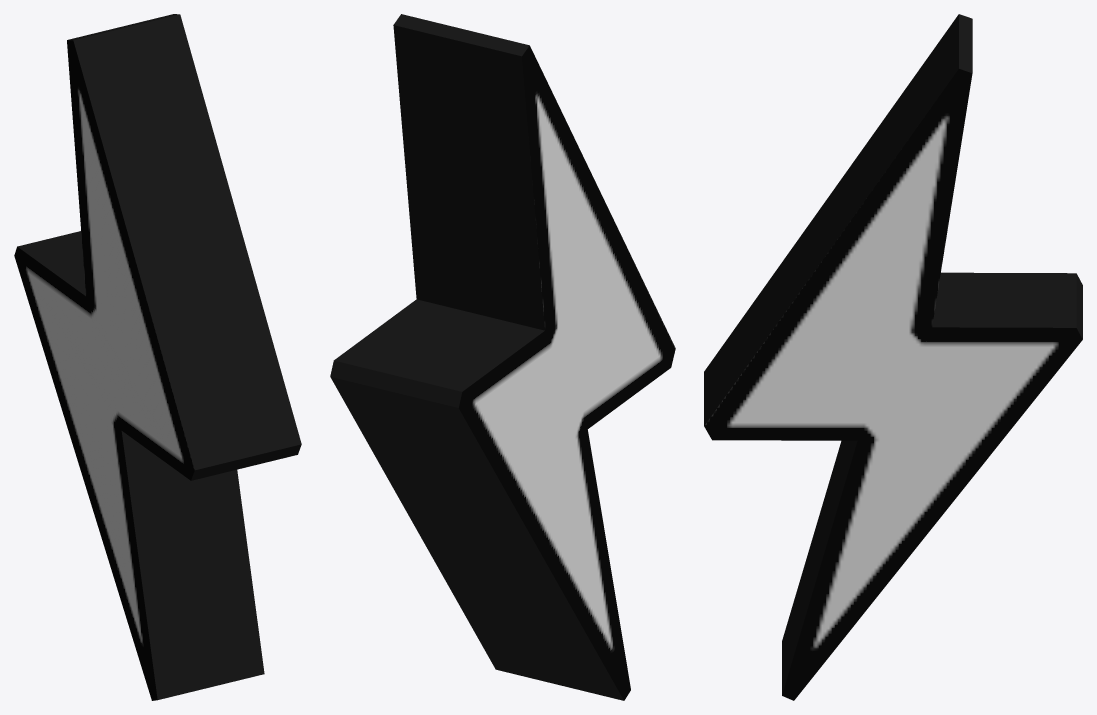
Rendered from SPEED-PU-V2.fbx.
3 views of the same model, side by side, from view 1: azimuth 30°, elevation 25°; view 2: azimuth 150°, elevation 25°; view 3: azimuth 270°, elevation 25° (orthographic). The views are drawn at different scales.
Parts seen in each view (by area): view 1: Unknown2; view 2: Unknown2; view 3: Unknown2.
Part boxes in pixels (x1,y1,x2,y2): Unknown2: (14,14,301,700); Unknown2: (330,14,675,700); Unknown2: (704,14,1082,700).
Size of the model in its own units: 36.89 by 199 by 108.
Materials: 2 (1 with a texture image).
